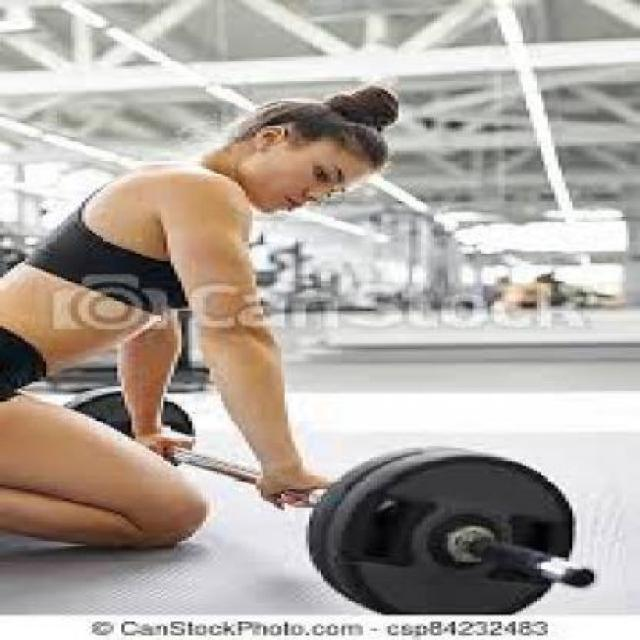Barbell: (544, 553, 608, 596)
